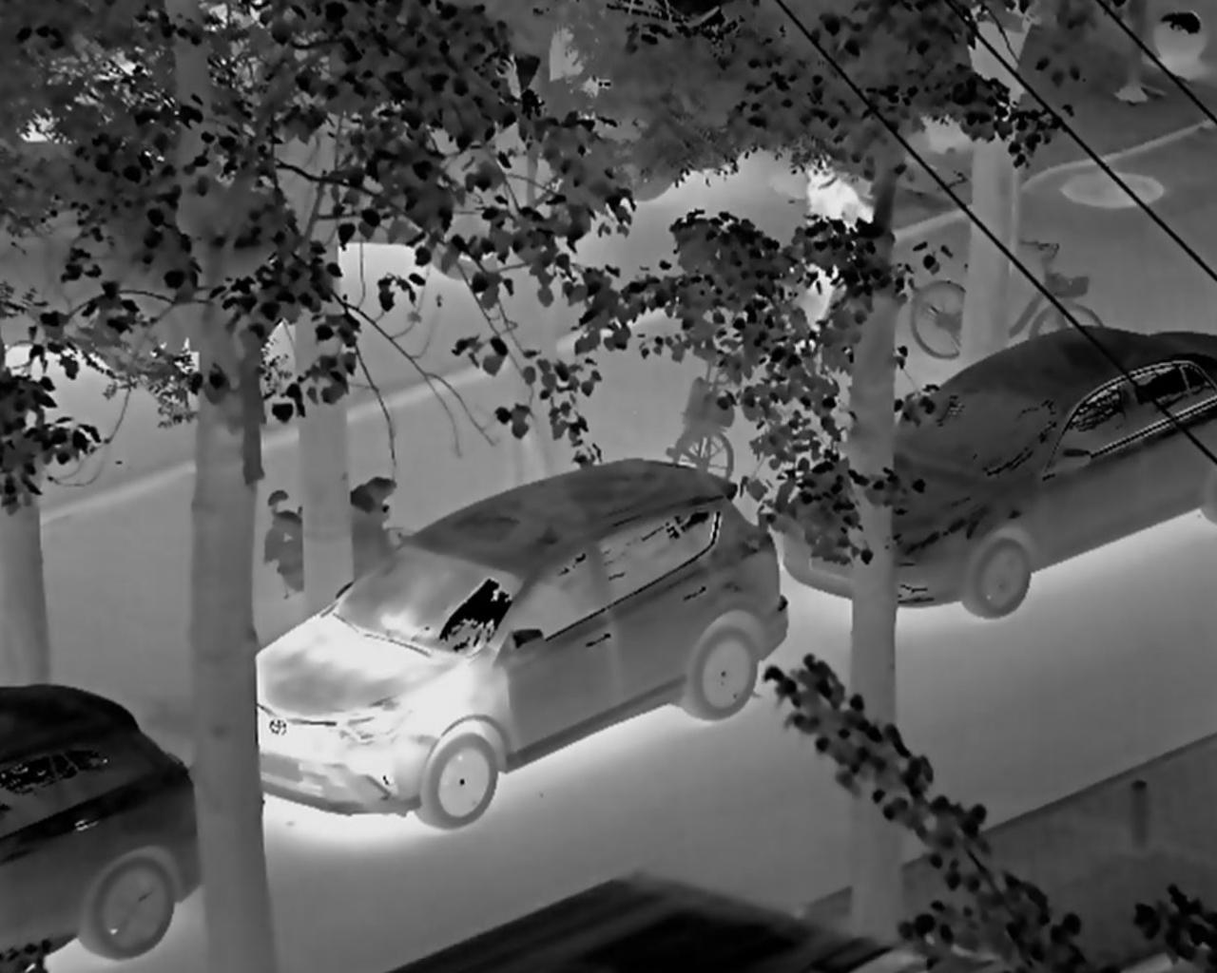person: (795, 140, 876, 353)
